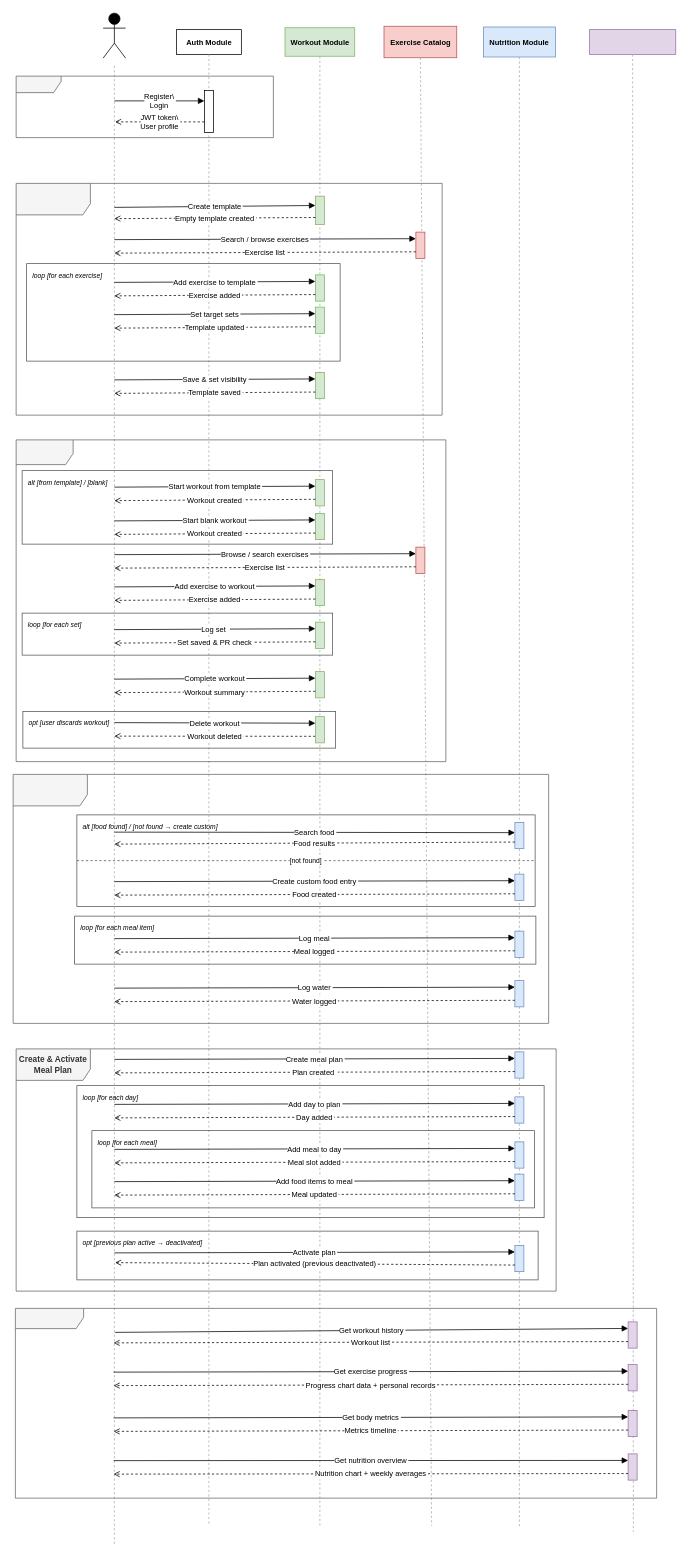
This 689x1558 diagram has some shape labels left out. The centre of each missing label's shape, as x and y in pixels:
Auth: (x=144, y=106)
Create workout template: (x=228, y=299)
Log Nutrition (Meals & Water): (x=280, y=898)
Start & Log Workout: (x=230, y=600)
Statistics Module: (x=632, y=41)
User: (x=114, y=35)
View Statistics: (x=336, y=1403)
